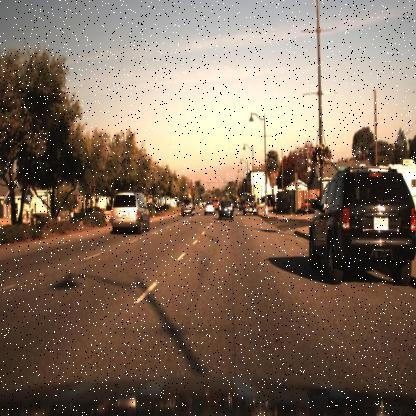car: (301, 151, 415, 293), (101, 179, 154, 242), (176, 190, 198, 224), (209, 195, 233, 224), (241, 191, 260, 219), (200, 197, 217, 222), (300, 196, 312, 218)
